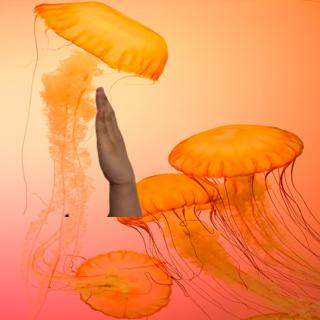RIGHT: (89, 83, 137, 187)
